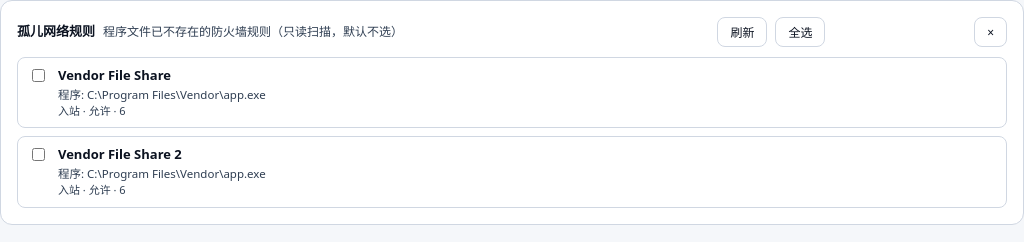
Scenario: clears the selection when the select-all toggle is clicked again
Expected: the text "Vendor File Share" is shown, [58,66,171,84]
What coordinates should you click on to do the following:
click the button "全选"
I would click on:
 (800, 32)
Its box is [775,17,825,47].
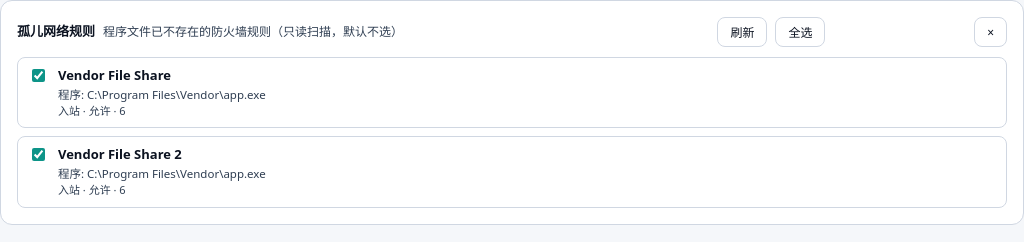
What coordinates should you click on to do the following:
click the button "全选"
I would click on:
 (800, 32)
Its box is [775,17,825,47].
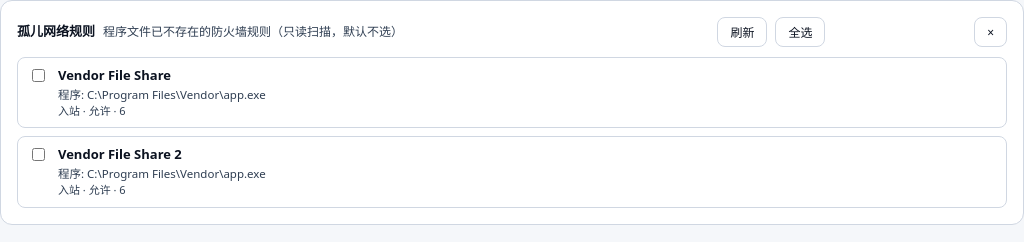
Expected: the 1st checkbox is not checked, [32,69,45,82]
Expected: the 2nd checkbox is not checked, [32,148,45,161]
